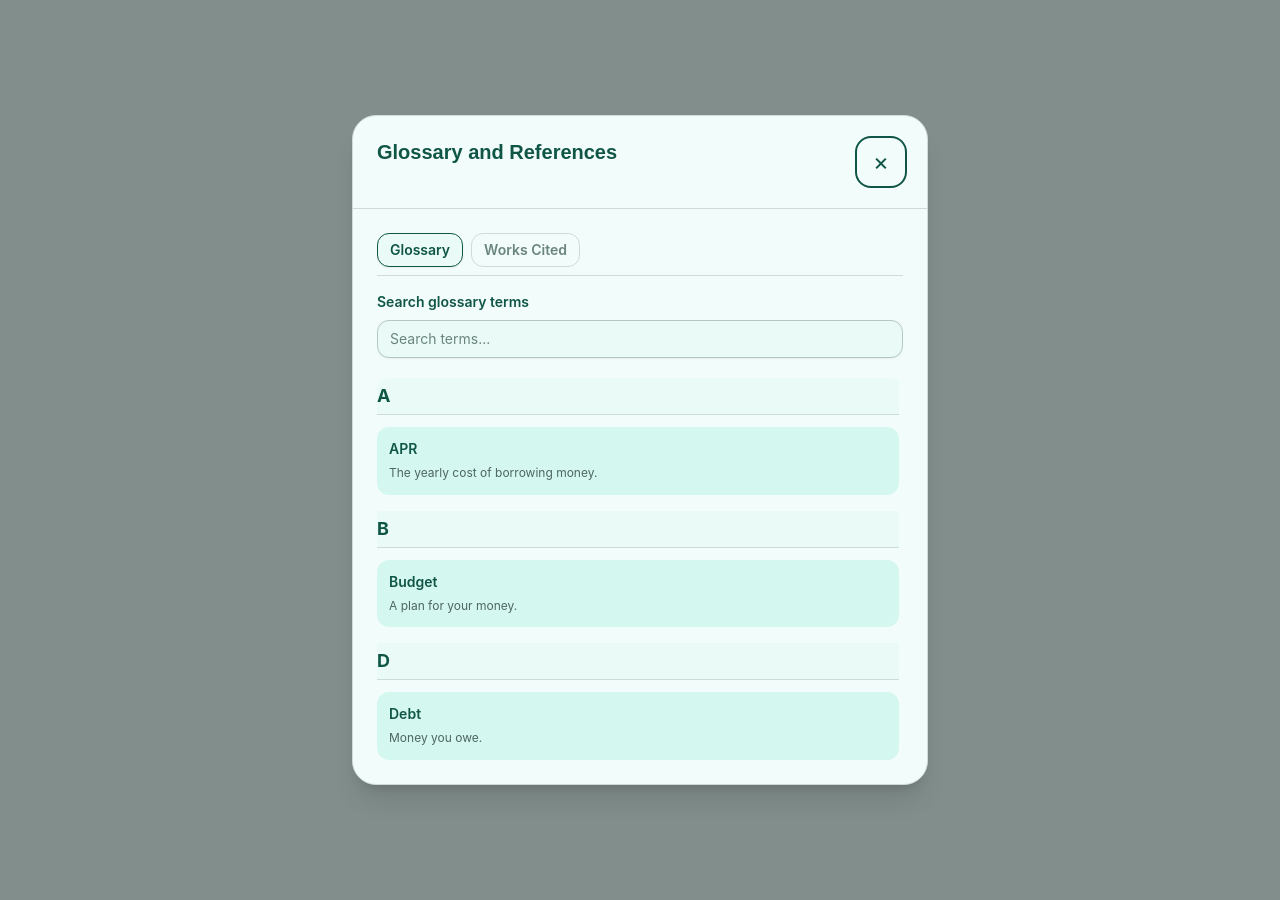
it: GlossaryModal › shows the module's Works Cited data with ordinary button semantics
Click the button "Works Cited" at (526, 250), box 471,233 -> 580,267
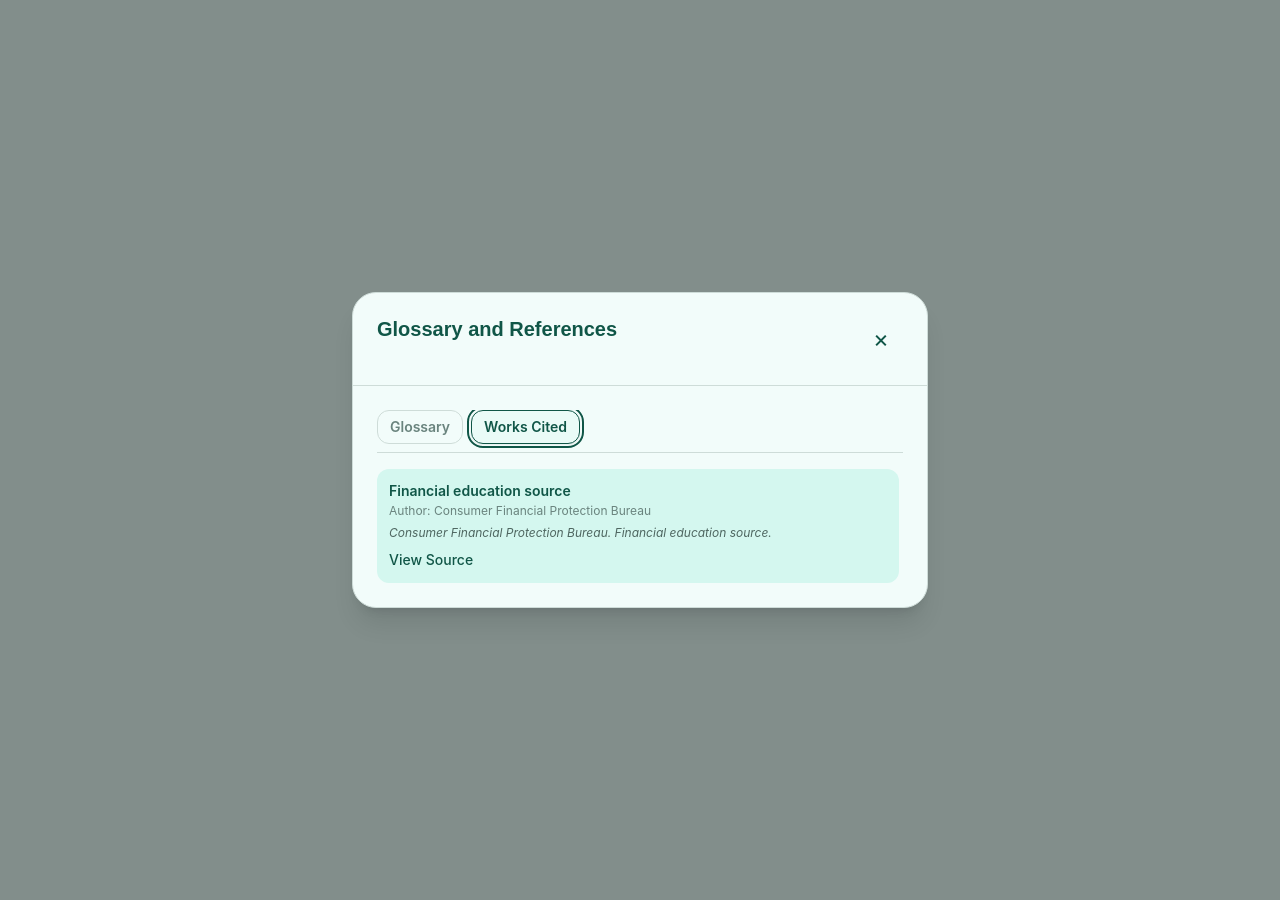
Now the element named "Works cited sources list" shows "Financial education source", box 389,482 -> 571,499
